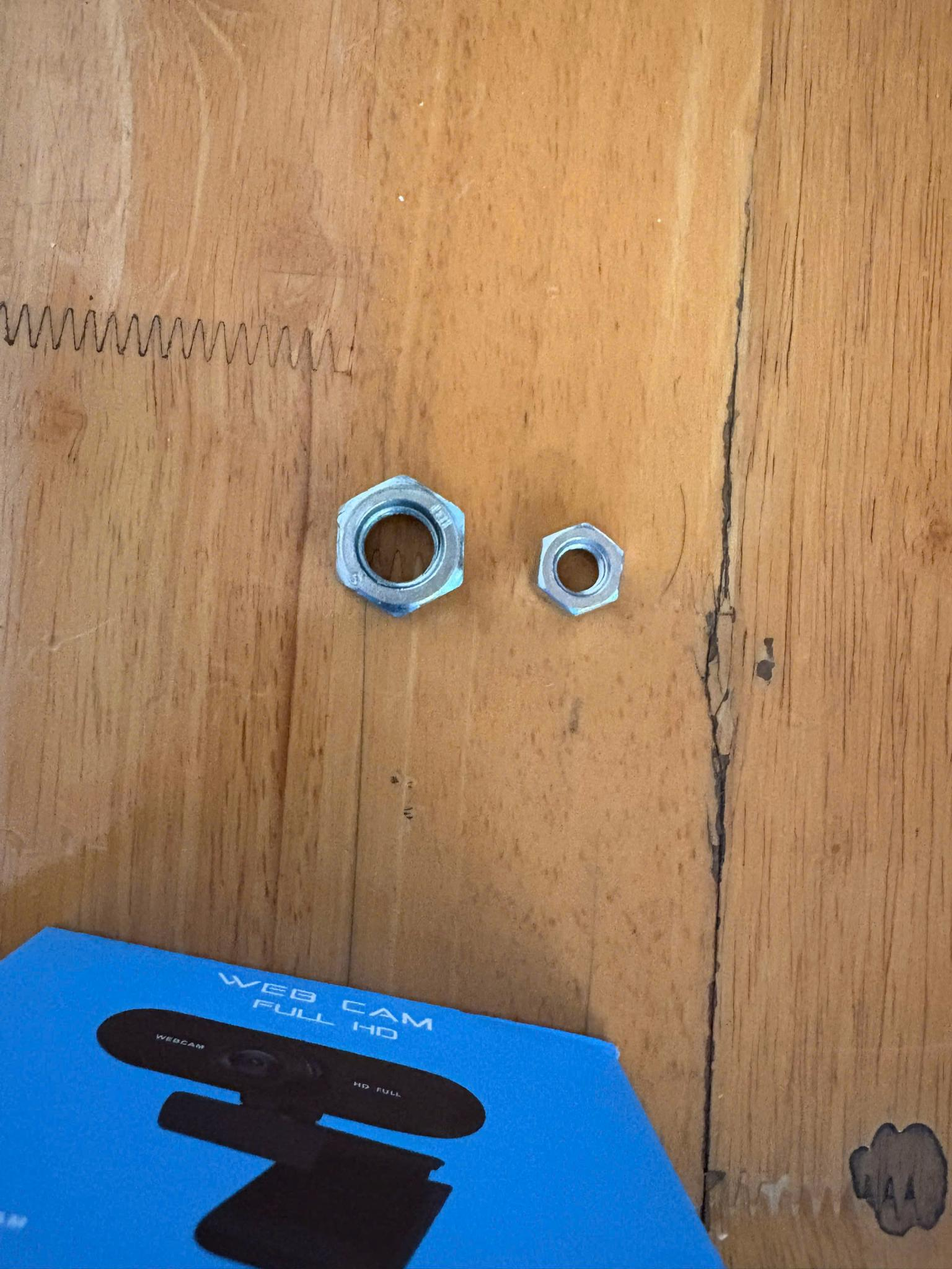nut: (312, 459, 488, 643), (516, 516, 653, 639)
